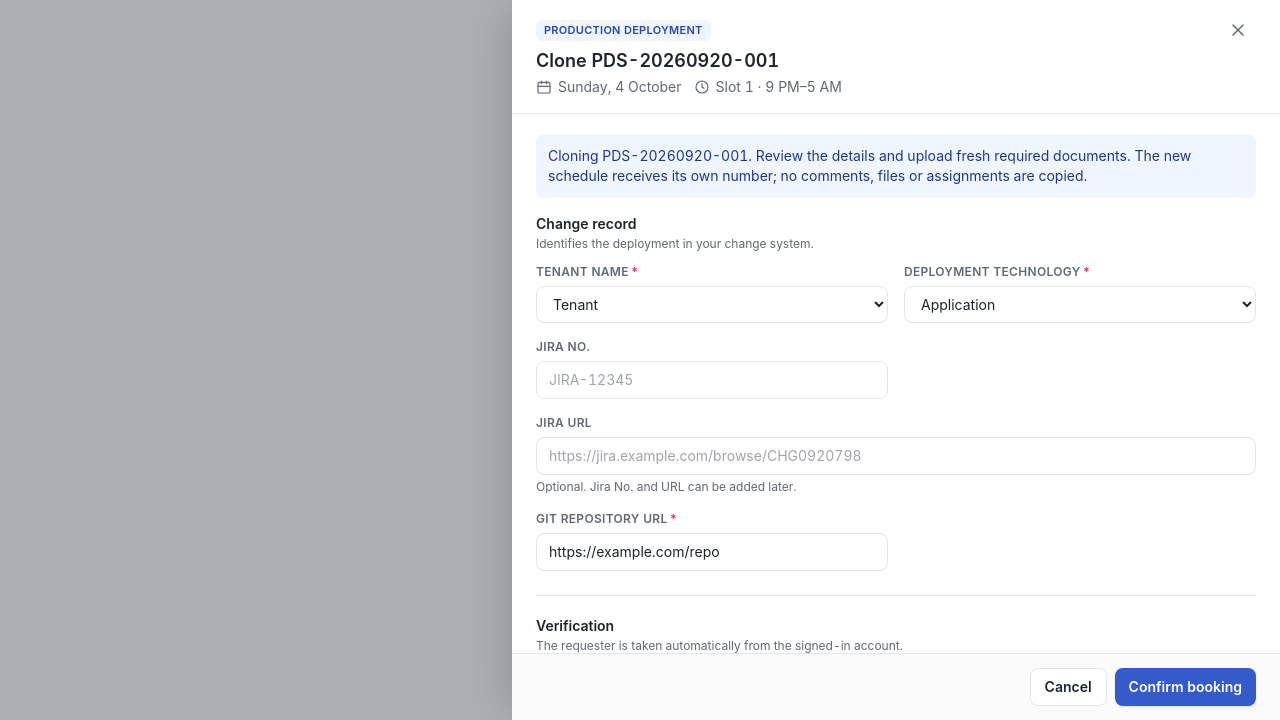
Test: requires fresh documents even when the source has documents
Click the button "Confirm booking": (1185, 687) [1115,668,1256,706]
(page scrolled)
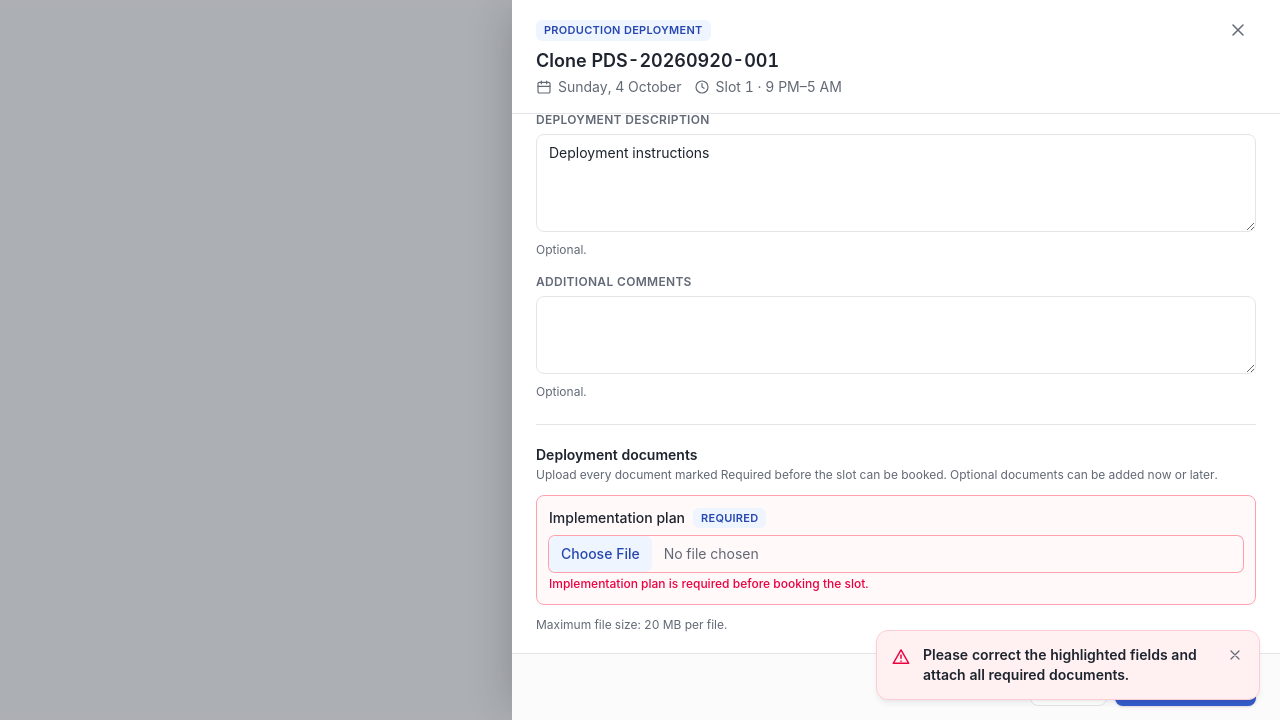
Now the text "Implementation plan is required before booking the slot." is shown, box [549,576,868,591]
